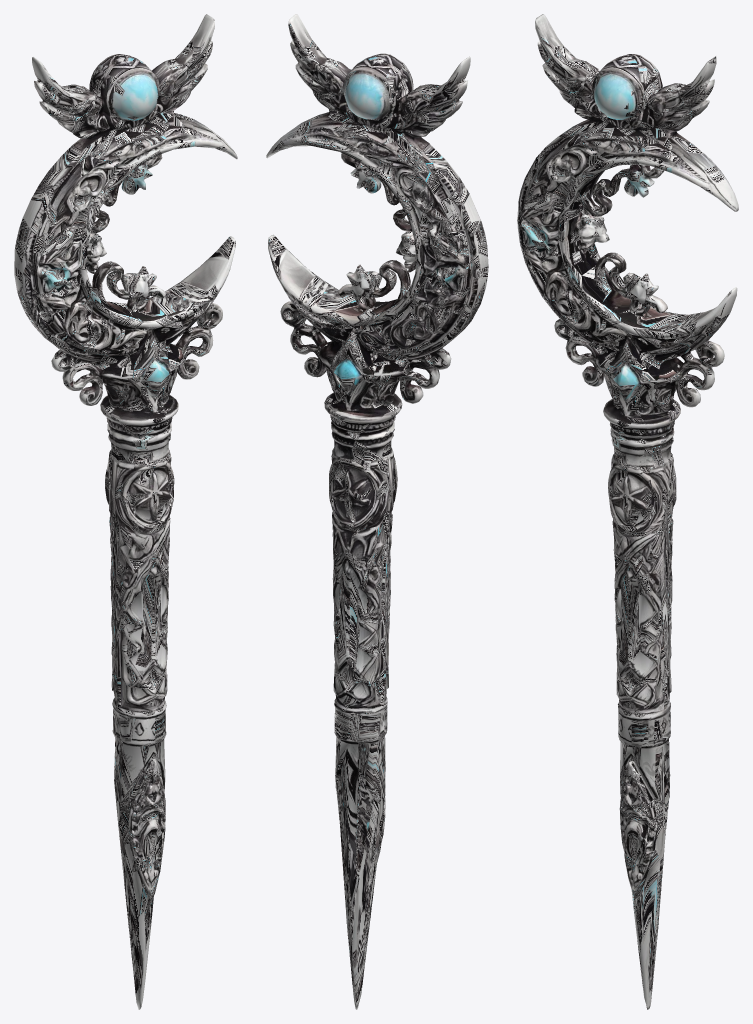
File: Winged_Crescent_Scept.glb
The picture shows the model from 3 angles, left to right: view 1: azimuth 30°, elevation 25°; view 2: azimuth 150°, elevation 25°; view 3: azimuth 330°, elevation 25°; orthographic projection.
Parts seen in each view (by area): view 1: Winged_Crescent_Scept; view 2: Winged_Crescent_Scept; view 3: Winged_Crescent_Scept.
Boxes of the visible parts, box(x1,y1,x2,y2) form: Winged_Crescent_Scept: box(14, 14, 237, 1009); Winged_Crescent_Scept: box(266, 14, 488, 1009); Winged_Crescent_Scept: box(517, 14, 738, 1009).
Bounding box in the file's own units: 0.4426 × 1.9 × 0.1569.
Materials: 1 (1 with a texture image).
